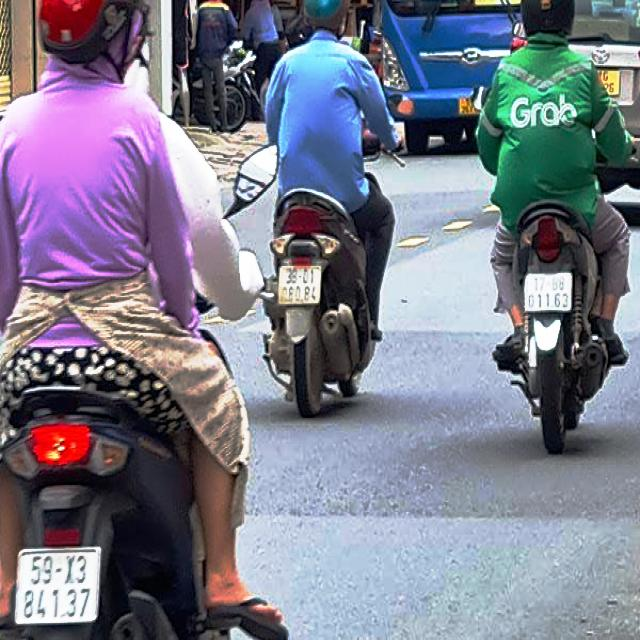license_plate: (15, 546, 102, 627), (525, 271, 574, 315), (278, 265, 322, 308)
